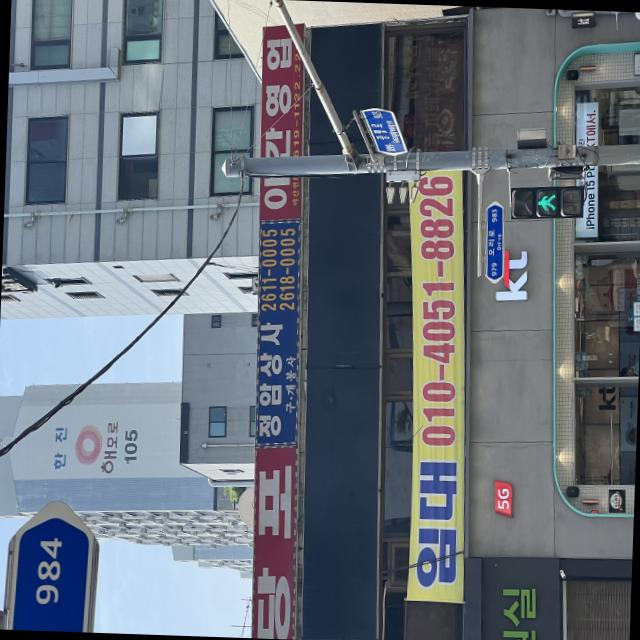green_light: (514, 178, 583, 220)
